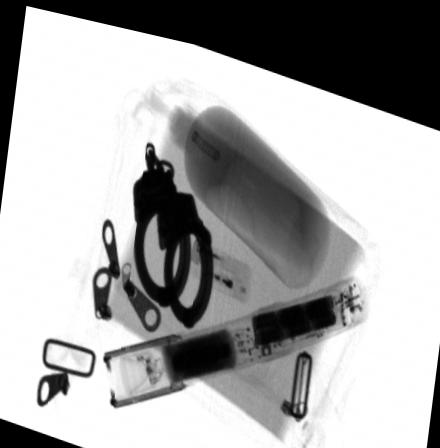Baton: (104, 257, 368, 404)
HandCuffs: (132, 136, 214, 322)
Lighter: (187, 225, 252, 292)
